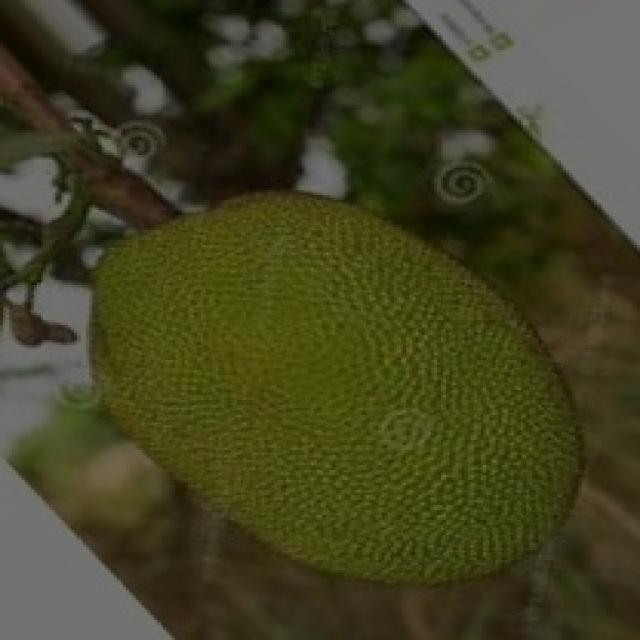Fruit: (237, 282, 618, 632)
